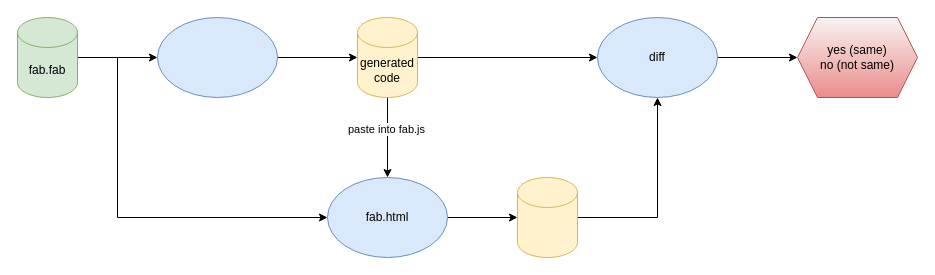
The diagram is 935 pixels wide and 275 high, and some of its shapes have lost their labels. Each missing label, with the centre of its shape:
"manual fmt-js.html + fmt-js.js" belongs at pixel 217 57.
"new generated code" belongs at pixel 547 217.
